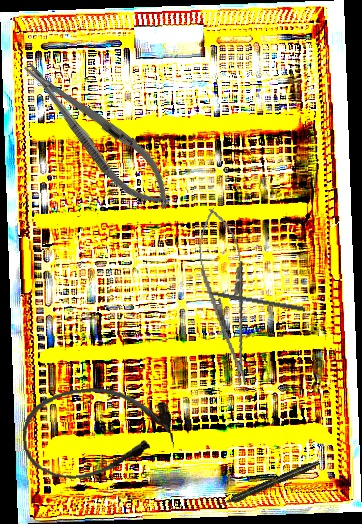Cannula: (18, 380, 177, 484)
Handpiece: (216, 458, 321, 510)
Needle Holder: (11, 47, 185, 222), (189, 205, 264, 389)
Pusher: (192, 286, 306, 312)
